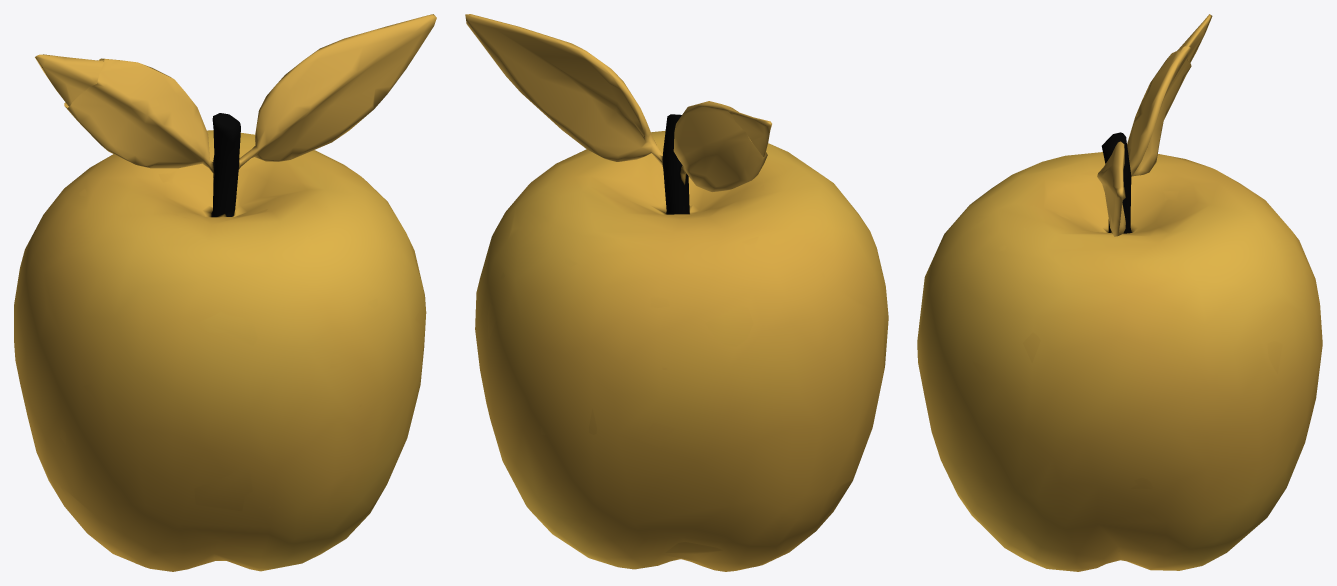
Rendered from gen3d-golden-apple-lod0.glb.
The picture shows the model from 3 angles, left to right: view 1: azimuth 30°, elevation 25°; view 2: azimuth 150°, elevation 25°; view 3: azimuth 270°, elevation 25°; orthographic projection. The views are drawn at different scales.
Visible parts, largest first — view 1: part_0; view 2: part_0; view 3: part_0.
Part boxes in pixels (<box>): part_0: <box>14,14,436,571</box>; part_0: <box>465,14,888,571</box>; part_0: <box>917,14,1322,571</box>.
Bounding box in the file's own units: 0.8445 × 0.9993 × 0.7776.
